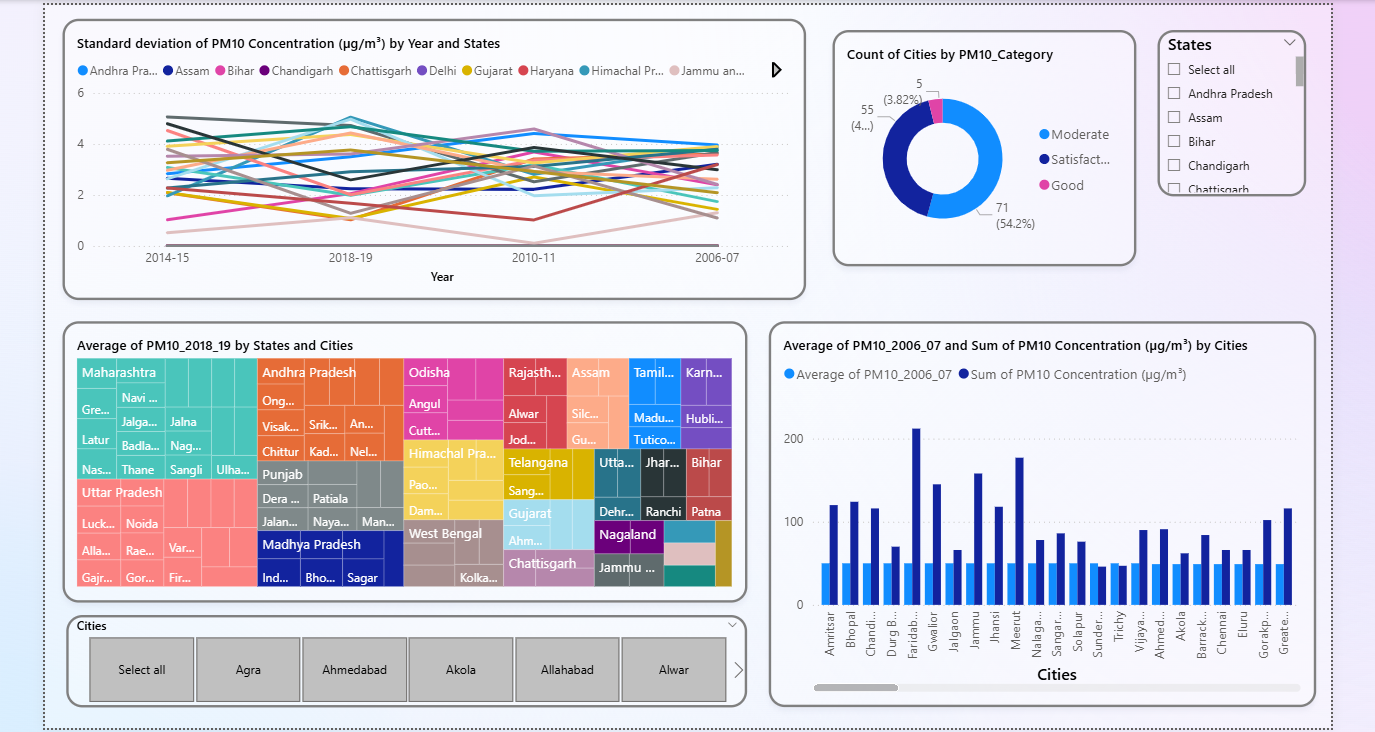

The page's visual inventory and layout, read from the dashboard file:
{"tool":"powerbi","page":{"name":"Page 2","canvas":[1280,720],"ordinal":1},"visuals":[{"type":"lineChart","fields":{"Category":["PM10_Trend_Chart.Year"],"Y":["Sum(PM10_Trend_Chart.PM10 Concentration (µg/m³))"],"Series":["PM10_Trend_Chart.States"]},"box":[17.4,13.7,740.2,279.9],"z":0},{"type":"slicer","fields":{"Values":["PM10_Trend_Chart.States"]},"box":[1107.1,24.9,148,165.4],"z":1000},{"type":"treemap","fields":{"Group":["PM10 Citywise.States"],"Details":["PM10 Citywise.Cities"],"Values":["Avg(PM10 Citywise.PM10_2018_19)"]},"box":[17.4,314.7,681.7,279.9],"z":2000},{"type":"donutChart","fields":{"Category":["PM10 Citywise.PM10_Category"],"Y":["CountNonNull(PM10 Citywise.Cities)"]},"box":[783.7,24.9,302.3,235.1],"z":3000},{"type":"clusteredColumnChart","fields":{"Category":["PM10 Citywise.Cities"],"Y":["Avg(PM10 Citywise.PM10_2006_07)","Sum(PM10 Citywise.PM10 Concentration (µg/m³))"]},"box":[720.3,314.7,544.9,384.4],"z":4000},{"type":"slicer","fields":{"Values":["PM10 Citywise.Cities"]},"box":[21.1,607.1,678,92.1],"z":5000}]}

Visuals, with their boxes in screenshot pixels (x1, y1, x2, y2):
lineChart - PM10_Trend_Chart.Year x Sum(PM10_Trend_Chart.PM10 Concentration (µg/m³)): 60 17 801 297
slicer - PM10_Trend_Chart.States: 1151 28 1299 194
treemap - PM10 Citywise.States x PM10 Citywise.Cities: 60 318 742 598
donutChart - PM10 Citywise.PM10_Category x CountNonNull(PM10 Citywise.Cities): 827 28 1130 264
clusteredColumnChart - PM10 Citywise.Cities x Avg(PM10 Citywise.PM10_2006_07): 764 318 1309 703
slicer - PM10 Citywise.Cities: 64 611 742 703
